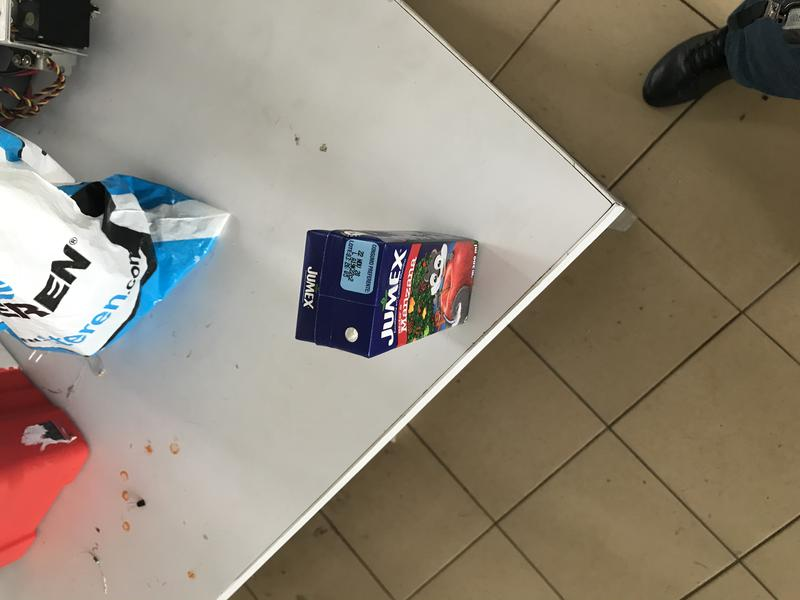jumex_cajita: (295, 228, 477, 358)
